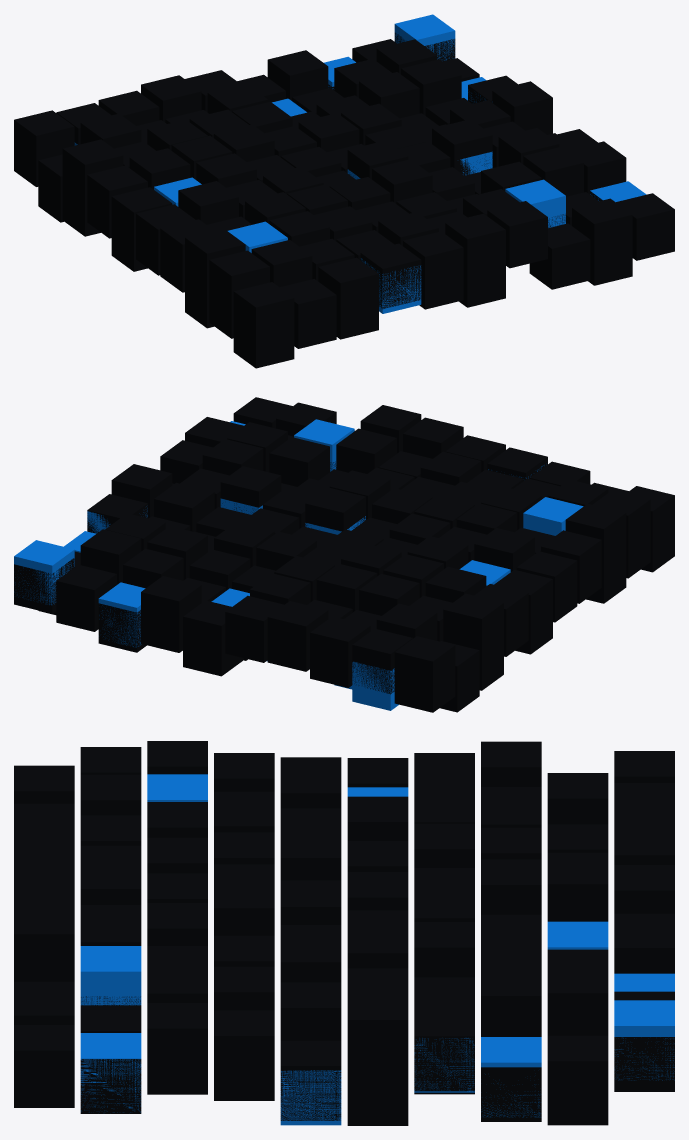
Rendered from py-home.gltf.
The picture shows the model from 3 angles, top to bottom: view 1: azimuth 30°, elevation 25°; view 2: azimuth 150°, elevation 25°; view 3: azimuth 270°, elevation 25°; orthographic projection. The views are drawn at different scales.
Parts seen in each view (by area): view 1: Cube.050, Cube.070, Cube.030, Cube.040, Cube.060, Cube.009, Cube.100, Cube.120, Cube.010, Cube, Cube.107, Cube.095 (+95 smaller); view 2: Cube.009, Cube.107, Cube.089, Cube.039, Cube.029, Cube.119, Cube.072, Cube.002, Cube.154, Cube.149, Cube.061, Cube.003 (+89 smaller); view 3: Cube.098, Cube.096, Cube.095, Cube.194, Cube.090, Cube.092, Cube.193, Cube.060, Cube.088, Cube.087, Cube.148, Cube.071 (+97 smaller).
Boxes of the visible parts, bbox=[...] form: Cube.050: bbox=[445, 213, 505, 278]; Cube.070: bbox=[529, 223, 590, 288]; Cube.030: bbox=[360, 243, 421, 308]; Cube.040: bbox=[403, 231, 463, 296]; Cube.060: bbox=[487, 201, 547, 266]; Cube.009: bbox=[14, 110, 74, 175]; Cube.100: bbox=[233, 282, 294, 346]; Cube.120: bbox=[318, 257, 378, 322]; Cube.010: bbox=[280, 279, 336, 344]; Cube: bbox=[233, 308, 294, 363]; Cube.107: bbox=[62, 139, 123, 204]; Cube.095: bbox=[492, 81, 552, 134]; Cube.009: bbox=[394, 636, 455, 701]; Cube.107: bbox=[443, 593, 503, 658]; Cube.089: bbox=[56, 564, 116, 630]; Cube.039: bbox=[267, 601, 328, 666]; Cube.029: bbox=[310, 616, 370, 681]; Cube.119: bbox=[352, 628, 412, 694]; Cube.072: bbox=[269, 437, 329, 486]; Cube.002: bbox=[565, 503, 626, 568]; Cube.154: bbox=[305, 487, 365, 531]; Cube.149: bbox=[225, 595, 284, 660]; Cube.061: bbox=[336, 428, 396, 473]; Cube.003: bbox=[541, 530, 601, 595]; Cube.098: bbox=[547, 1035, 608, 1116]; Cube.096: bbox=[414, 1010, 474, 1091]; Cube.095: bbox=[347, 994, 408, 1074]; Cube.194: bbox=[280, 1040, 341, 1120]; Cube.090: bbox=[14, 1025, 74, 1105]; Cube.092: bbox=[147, 1003, 207, 1083]; Cube.193: bbox=[214, 1010, 274, 1090]; Cube.060: bbox=[14, 908, 74, 981]; Cube.088: bbox=[547, 967, 608, 1035]; Cube.087: bbox=[481, 970, 541, 1036]; Cube.148: bbox=[547, 859, 608, 921]; Cube.071: bbox=[80, 946, 141, 1005].
Bounding box in the file's own units: 21.8 × 3.99 × 21.8.
